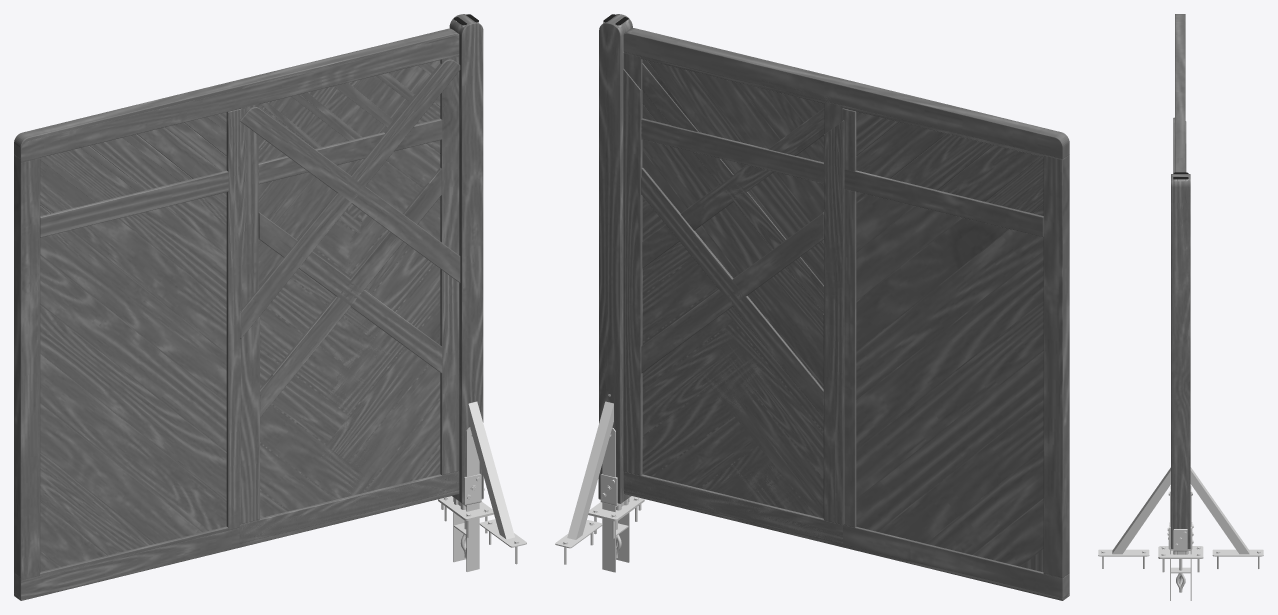
Rendered from fionaCombo19.glb.
3 renders of one model, left to right at view 1: azimuth 30°, elevation 25°; view 2: azimuth 150°, elevation 25°; view 3: azimuth 270°, elevation 25°, orthographic. The views are drawn at different scales.
Parts seen in each view (by area): view 1: Lisa 180x180, Lisaleva kosa, Lisadesna kosa, Fiona 180x180 rupe, stubić Sina, Fionaleva kosa rupe, Fiona 90x180 rupe, Fiona desna kosa rupe, Lisa 90x180, sturmanker-right-front, Nosač Stubića Sina, post-root-right; view 2: Fiona 180x180 rupe, Fionaleva kosa rupe, Fiona desna kosa rupe, Lisa 180x180, stubić Sina, Lisa 90x180, sturmanker-right-rear, Fiona 90x180 rupe, Nosač Stubića Sina, Lisadesna kosa, post-root-right, Lisaleva kosa; view 3: stubić Sina, Fiona 180x180 rupe, sturmanker-right-rear, sturmanker-right-front, post-root-right, Nosač Stubića Sina, NosacBoth.
Part boxes in pixels (bbox=[...]): Lisa 180x180: bbox=[14, 37, 459, 600]; Lisaleva kosa: bbox=[241, 59, 460, 542]; Lisadesna kosa: bbox=[239, 107, 460, 543]; Fiona 180x180 rupe: bbox=[14, 29, 453, 597]; stubić Sina: bbox=[449, 14, 483, 503]; Fionaleva kosa rupe: bbox=[240, 167, 441, 417]; Fiona 90x180 rupe: bbox=[242, 28, 459, 184]; Fiona desna kosa rupe: bbox=[258, 212, 442, 373]; Lisa 90x180: bbox=[240, 35, 459, 523]; sturmanker-right-front: bbox=[468, 401, 526, 564]; Nosač Stubića Sina: bbox=[453, 427, 479, 571]; post-root-right: bbox=[438, 496, 493, 537]; Fiona 180x180 rupe: bbox=[623, 28, 1069, 597]; Fionaleva kosa rupe: bbox=[623, 63, 842, 543]; Fiona desna kosa rupe: bbox=[623, 108, 843, 543]; Lisa 180x180: bbox=[624, 57, 1069, 600]; stubić Sina: bbox=[599, 14, 632, 503]; Lisa 90x180: bbox=[624, 52, 842, 545]; sturmanker-right-rear: bbox=[555, 394, 613, 564]; Fiona 90x180 rupe: bbox=[623, 28, 842, 543]; Nosač Stubića Sina: bbox=[602, 427, 629, 572]; Lisadesna kosa: bbox=[824, 120, 844, 524]; post-root-right: bbox=[588, 496, 644, 538]; Lisaleva kosa: bbox=[624, 66, 823, 519]; stubić Sina: bbox=[1171, 174, 1190, 548]; Fiona 180x180 rupe: bbox=[1175, 14, 1185, 172]; sturmanker-right-rear: bbox=[1190, 467, 1263, 568]; sturmanker-right-front: bbox=[1098, 467, 1170, 568]; post-root-right: bbox=[1158, 546, 1203, 572]; Nosač Stubića Sina: bbox=[1168, 486, 1192, 600]; NosacBoth: bbox=[1173, 529, 1187, 585].
Size of the model in its own units: 1.91 by 2.14 by 0.7571.
9 materials, 1 textured.
